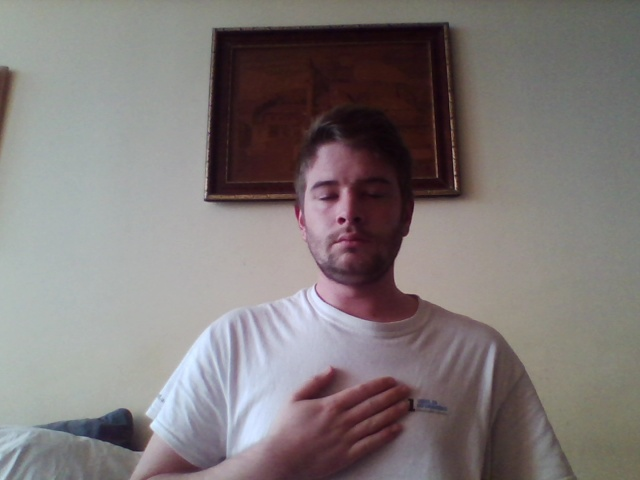molimte: (270, 365, 413, 479)
